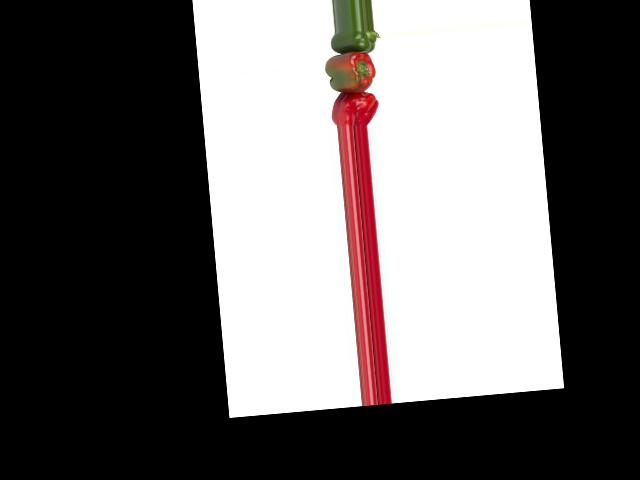bell_pepper: (327, 88, 384, 128)
